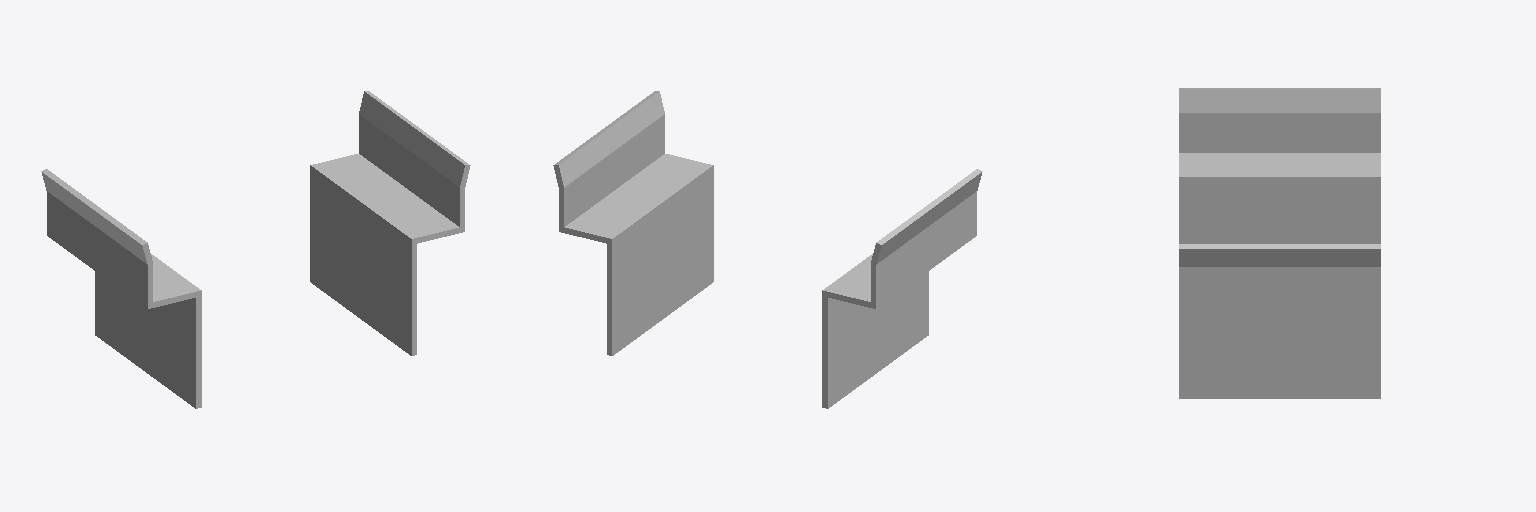
The model's file is vorlage_wanne_a2_0_1_1.obj.
3 renders of one model, left to right at view 1: azimuth 30°, elevation 25°; view 2: azimuth 150°, elevation 25°; view 3: azimuth 270°, elevation 25°, orthographic.
Parts seen in each view (by area): view 1: 1, 0; view 2: 1, 0; view 3: 0, 1.
Part boxes in pixels (left/top/right/bottom): 1: left=310, top=91, right=470, bottom=355; 0: left=41, top=169, right=201, bottom=408; 1: left=553, top=91, right=713, bottom=355; 0: left=822, top=169, right=982, bottom=408; 0: left=1179, top=88, right=1380, bottom=243; 1: left=1179, top=244, right=1380, bottom=398.
Size of the model in its own units: 234 by 122 by 125.